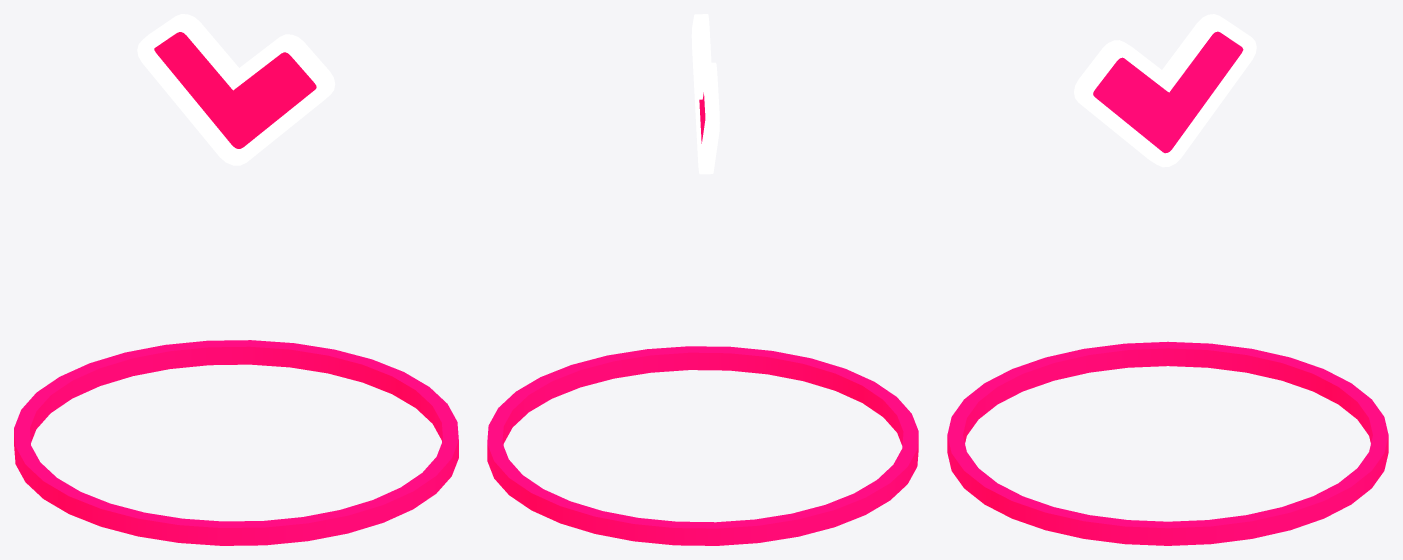
File: redPod.glb
3 renders of one model, left to right at view 1: azimuth 30°, elevation 25°; view 2: azimuth 150°, elevation 25°; view 3: azimuth 270°, elevation 25°, orthographic. The views are drawn at different scales.
Visible parts, largest first — view 1: redPod; view 2: redPod; view 3: redPod.
Part boxes in pixels (left/top/right/bottom): redPod: left=14, top=14, right=458, bottom=545; redPod: left=487, top=14, right=918, bottom=545; redPod: left=947, top=14, right=1388, bottom=545.
Size of the model in its own units: 6.59 by 6.96 by 6.59.
